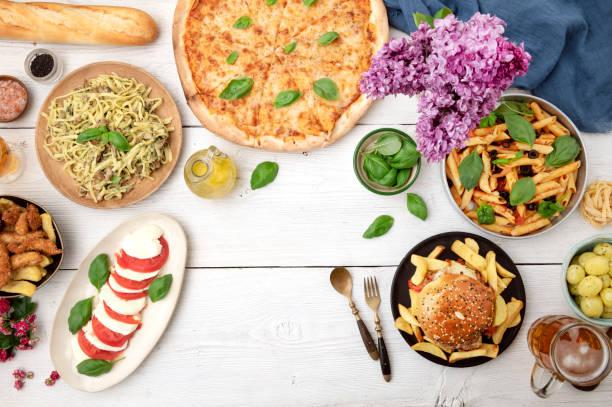Braised Crucian Carp: (173, 0, 392, 153), (49, 213, 190, 392), (34, 62, 184, 211), (440, 93, 586, 239), (391, 231, 524, 368)
